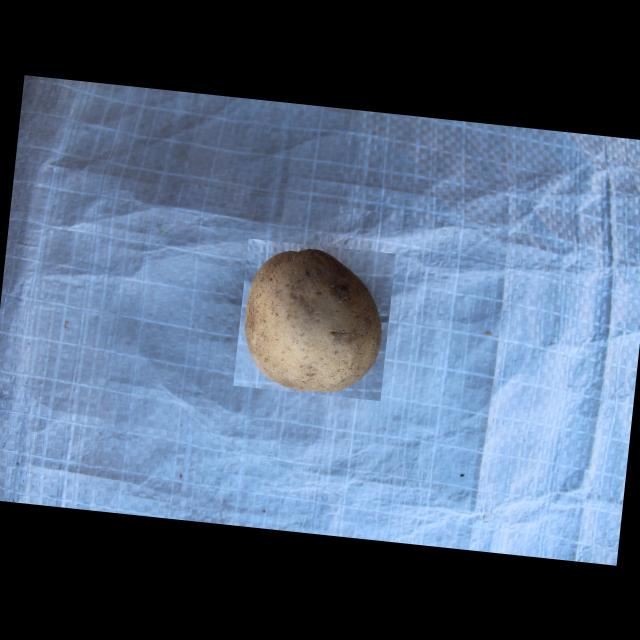Diseased-fungal potato: (232, 238, 396, 401)
